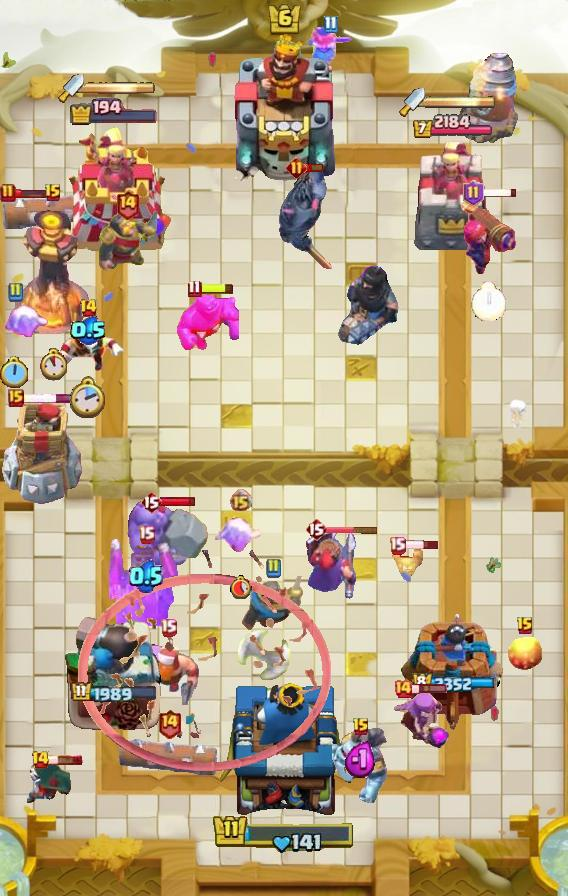archer-queen: (123, 498, 211, 578)
bar: (55, 126, 173, 256), (412, 140, 494, 256)
clock: (212, 813, 356, 855)
electro-dragon: (14, 208, 92, 334)
electro-spirit: (344, 741, 378, 779), (129, 559, 163, 593), (70, 316, 107, 345)
elixir: (70, 376, 107, 420), (470, 281, 506, 321), (0, 356, 30, 390), (38, 348, 69, 380), (228, 575, 251, 599)
elixir-golem-big: (304, 527, 360, 601)
elixir-golem-small: (332, 728, 390, 806)
emote: (21, 392, 75, 403), (325, 525, 379, 535), (199, 282, 235, 295), (404, 539, 441, 551), (411, 683, 448, 695), (12, 187, 48, 199), (47, 754, 83, 766), (482, 187, 519, 198), (159, 497, 196, 508), (304, 162, 324, 174)
firecracker: (97, 212, 157, 272), (241, 576, 305, 631)
golemite: (277, 168, 339, 272)
heal-spirit: (505, 397, 533, 429)
hog: (508, 633, 542, 671)
hog-rider: (306, 25, 354, 79)
ice-spirit-evolution: (388, 546, 426, 578)
inferno-dragon: (336, 265, 400, 348)
king-tower: (219, 678, 349, 826), (228, 35, 340, 181)
king-tower-bar: (84, 81, 156, 95), (425, 95, 495, 109)
lumberjack: (51, 318, 125, 376)
magic-archer: (459, 52, 519, 144)
mega-minion: (458, 196, 518, 276)
mighty-miner: (136, 636, 200, 706)
minion: (0, 193, 102, 229), (118, 739, 220, 775)
mirror: (0, 305, 50, 343), (215, 516, 265, 554)
queen-tower: (401, 613, 505, 731)
rascal-girl: (388, 690, 452, 752)
royal-giant: (236, 619, 292, 681)
selected: (69, 98, 159, 126), (412, 114, 494, 140), (70, 681, 158, 705), (413, 673, 496, 695)
skeleton-barrel: (77, 550, 331, 773)
skeleton-king-bar: (109, 539, 183, 627)
tesla: (23, 761, 77, 803)
text: (115, 189, 140, 220), (158, 709, 183, 740), (463, 180, 485, 206), (228, 489, 251, 512), (140, 490, 162, 514), (305, 517, 327, 541), (286, 157, 307, 179), (393, 679, 413, 699), (79, 298, 98, 318), (31, 750, 50, 770), (44, 183, 62, 203), (516, 616, 534, 636), (352, 717, 370, 737), (0, 183, 16, 203), (7, 282, 23, 302), (265, 558, 281, 578), (137, 525, 154, 543), (389, 537, 406, 555), (160, 619, 177, 637), (8, 389, 24, 407), (186, 279, 201, 298), (323, 15, 337, 34)
tornado: (177, 291, 239, 351)
tower-bar: (63, 615, 165, 731)
zappy: (0, 400, 82, 506)
